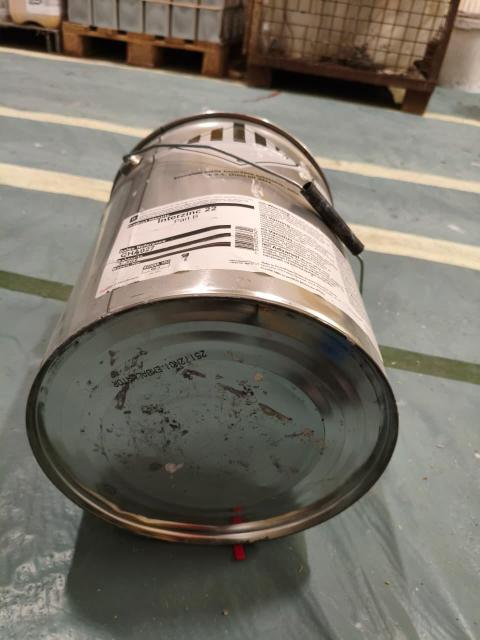Metal: (27, 110, 412, 535)
